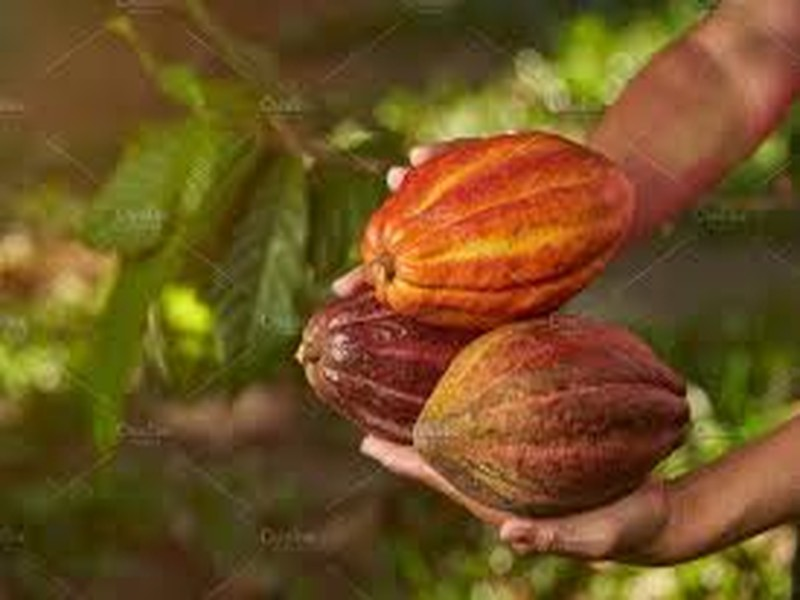Cacaopod: (365, 131, 641, 322)
